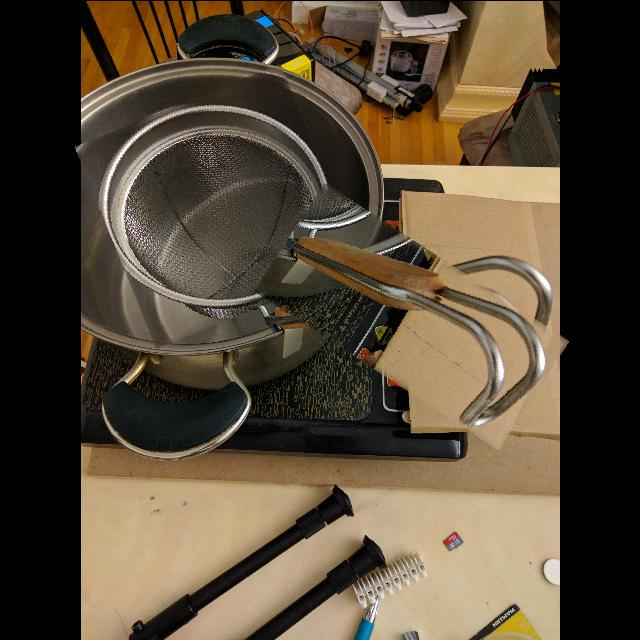Handle: (258, 215, 562, 415)
Strainer: (90, 80, 344, 332)
